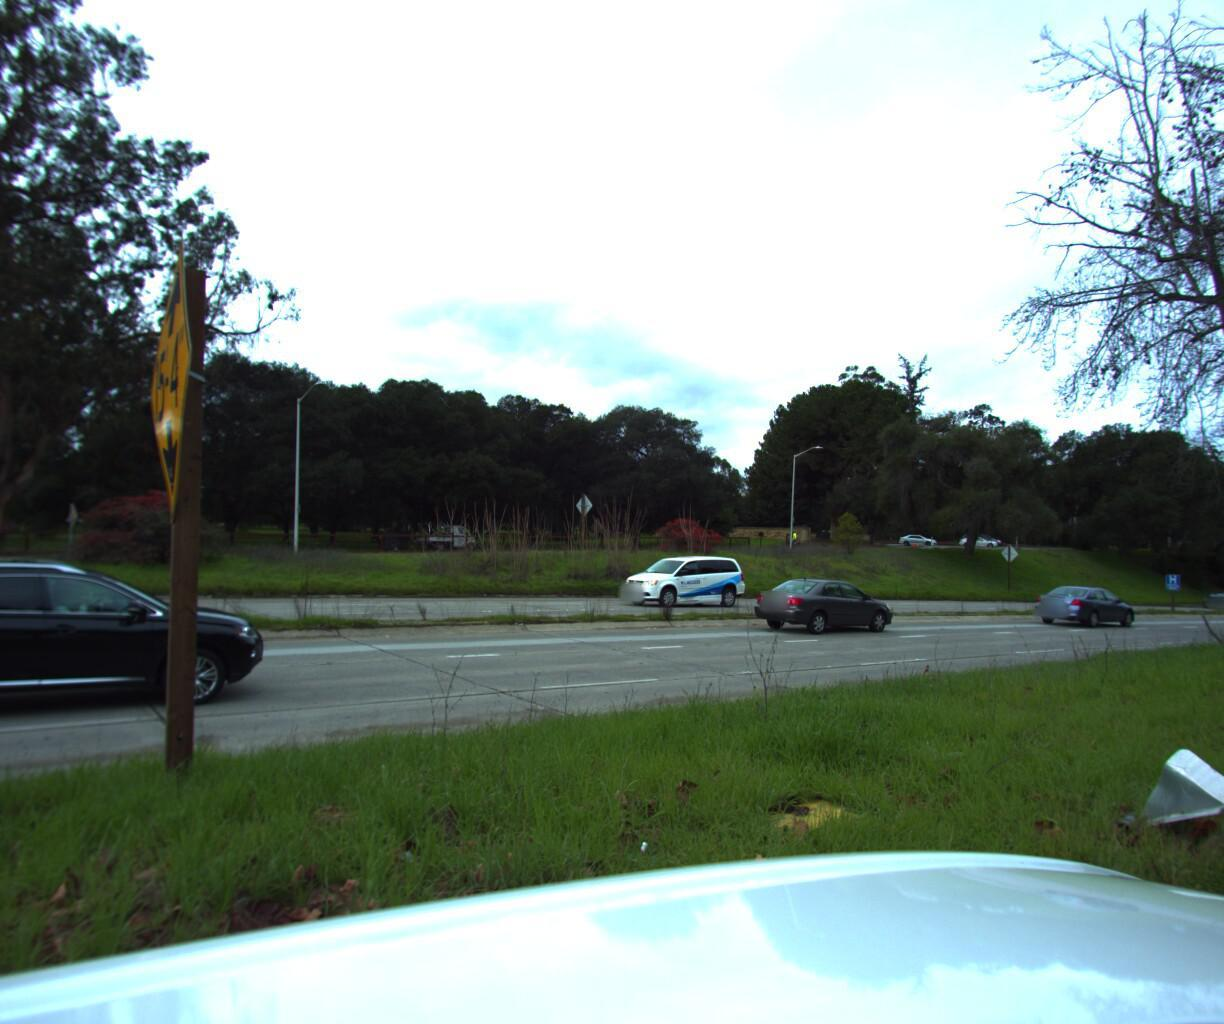car: (0, 558, 284, 742), (741, 569, 898, 635), (638, 551, 771, 609), (1024, 577, 1133, 627), (410, 518, 477, 547)
